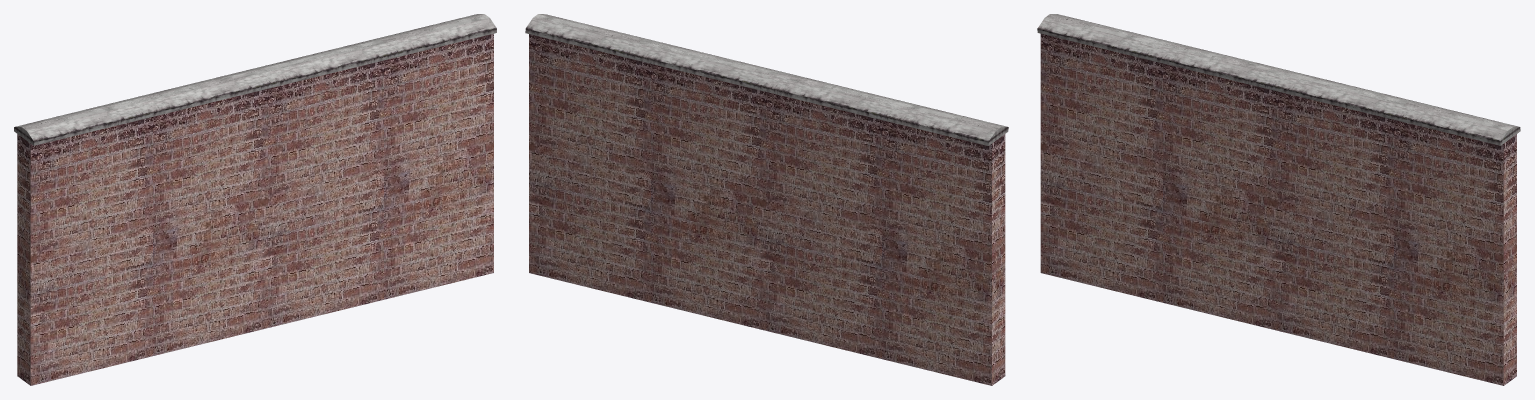
The model's file is lf_brick_wall.glb.
3 renders of one model, left to right at view 1: azimuth 30°, elevation 25°; view 2: azimuth 150°, elevation 25°; view 3: azimuth 330°, elevation 25°, orthographic.
Parts seen in each view (by area): view 1: brick_wall; view 2: brick_wall; view 3: brick_wall.
Boxes of the visible parts, <box> form: brick_wall: <box>14,14,496,385</box>; brick_wall: <box>525,14,1008,385</box>; brick_wall: <box>1037,14,1520,385</box>.
Bounding box in the file's own units: 4 × 2.08 × 0.2998.
Materials: 2 (2 with a texture image).
